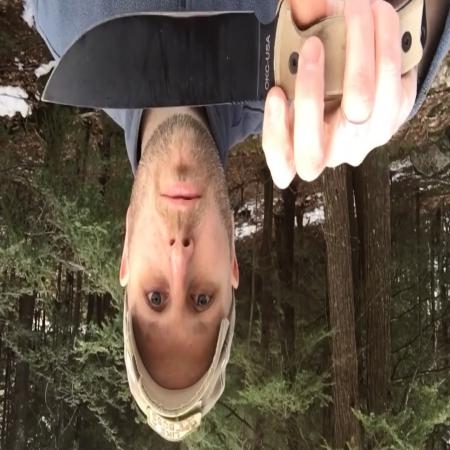long weapon: (36, 1, 376, 196)
